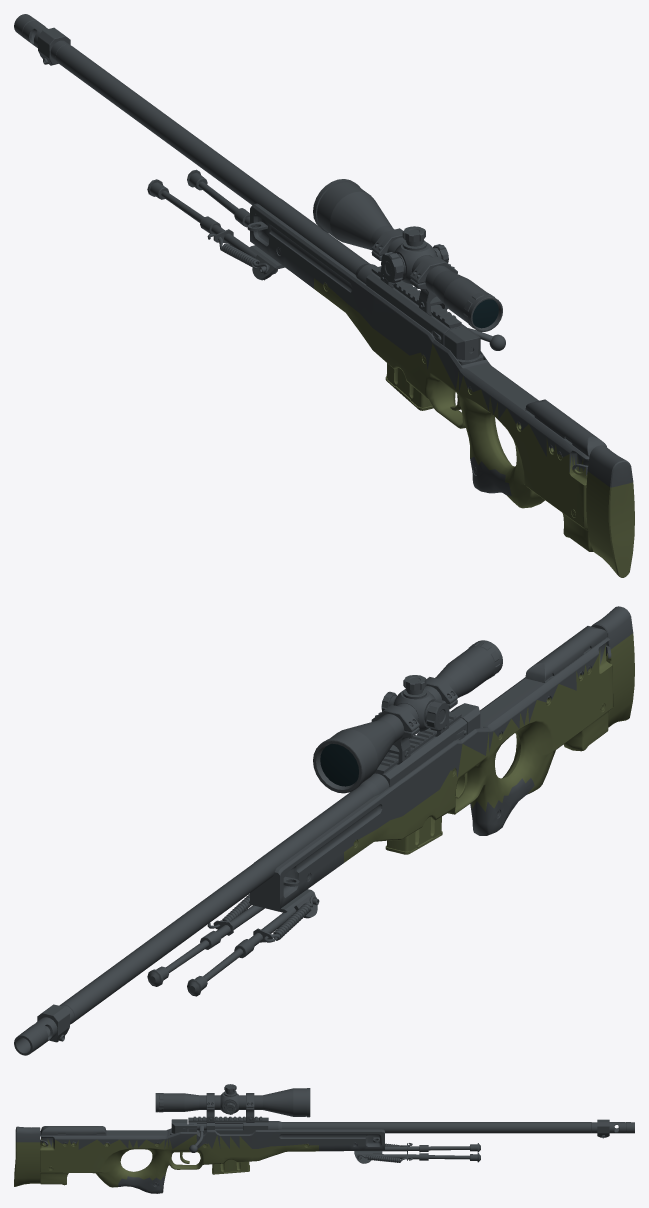
File: awp.glb
The picture shows the model from 3 angles, top to bottom: view 1: azimuth 30°, elevation 25°; view 2: azimuth 150°, elevation 25°; view 3: azimuth 270°, elevation 25°; orthographic projection. The views are drawn at different scales.
Parts seen in each view (by area): view 1: receiver, bolt, magazine; view 2: receiver, magazine; view 3: receiver, bolt, magazine.
Part boxes in pixels (bbox=[...]): receiver: bbox=[14, 14, 634, 577]; bolt: bbox=[444, 324, 505, 360]; magazine: bbox=[385, 363, 433, 410]; receiver: bbox=[14, 606, 634, 1055]; magazine: bbox=[385, 816, 442, 854]; receiver: bbox=[14, 1084, 634, 1193]; bolt: bbox=[171, 1119, 242, 1152]; magazine: bbox=[212, 1159, 249, 1174].
Bounding box in the file's own units: 0.1058 × 0.2347 × 1.25.
